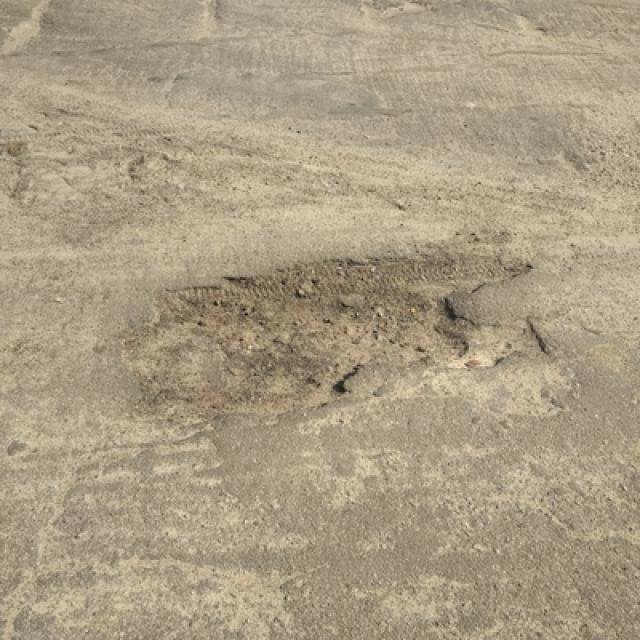objects: (125, 252, 550, 415)
